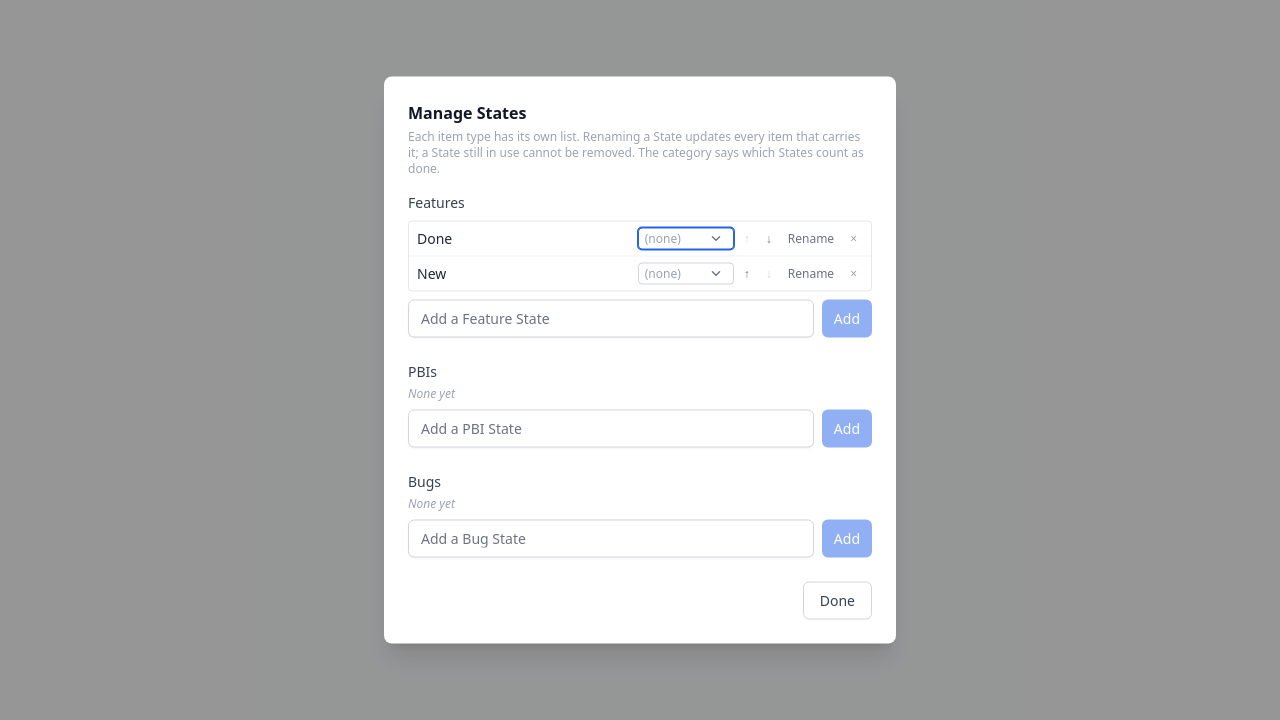
Test: ProjectStatesModal › reports the backend message when a rename collides
Click the button with aria-label "Rename New": [811, 274] box [782,264,840,284]
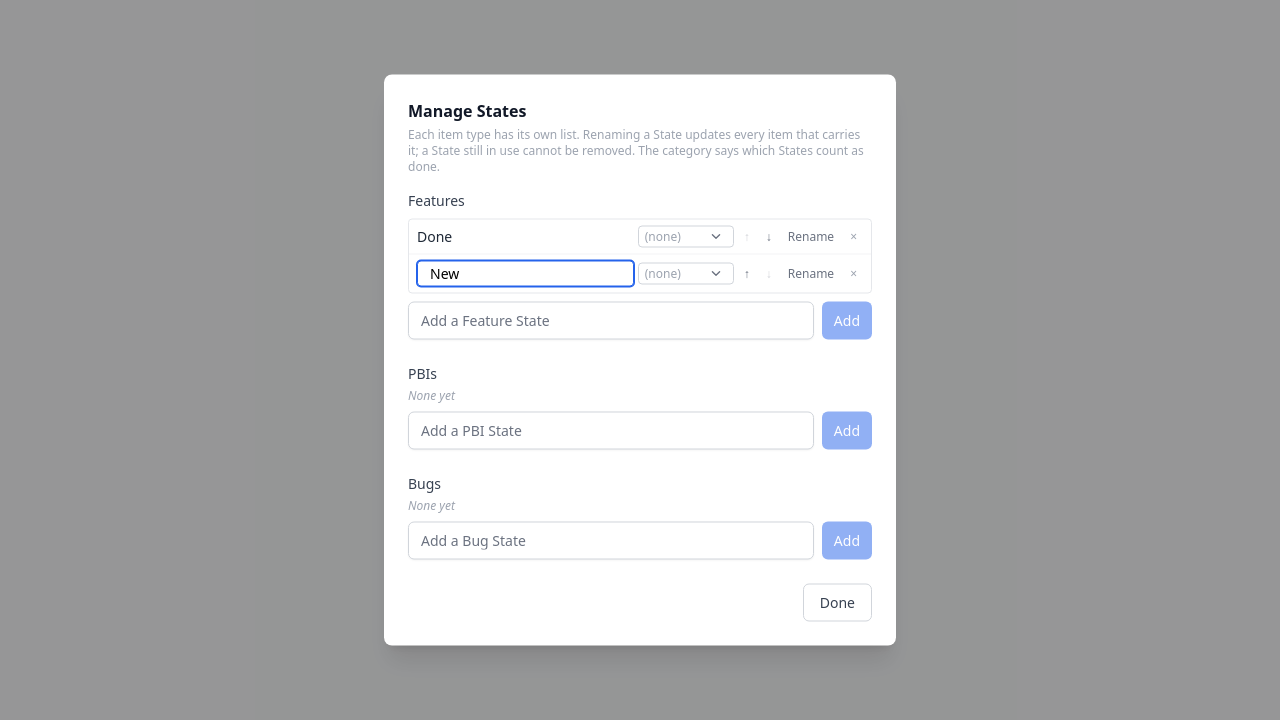
Replace the text in the field named "Rename New" with "Done": [525, 274] box [417,260,634,286]
Then press Enter
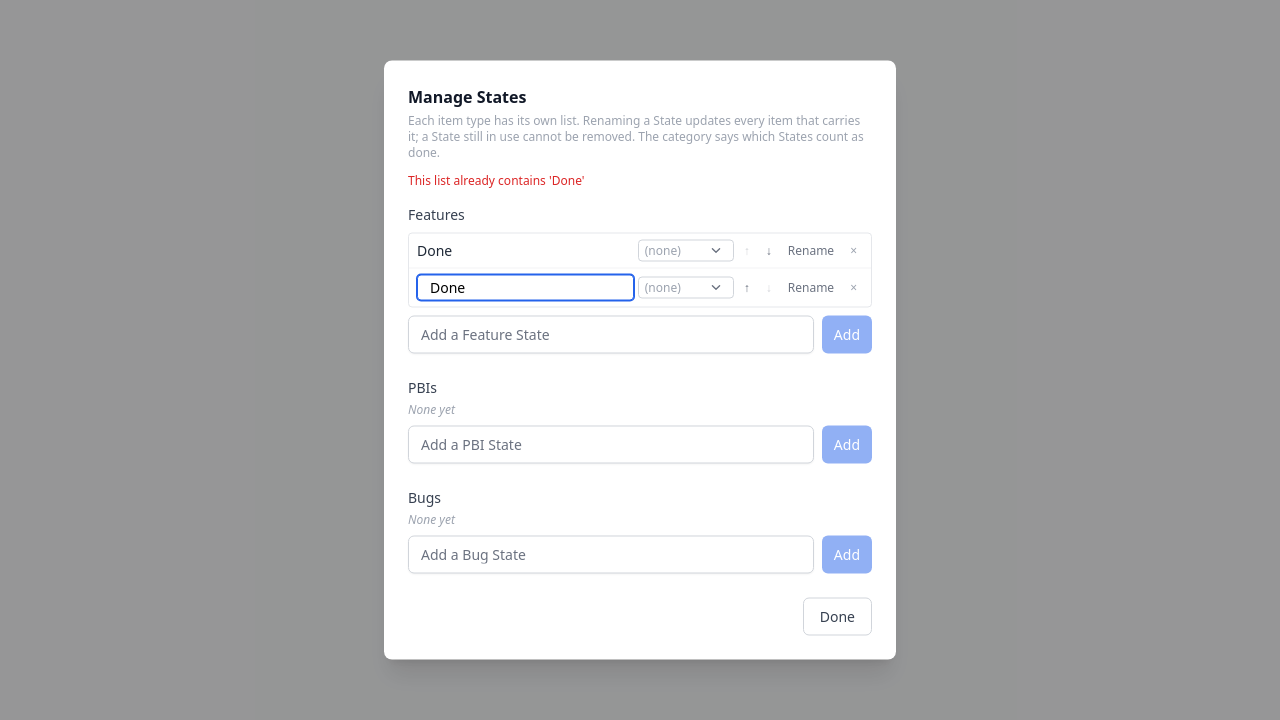
Check: the message reads "This list already contains 'Done'", box [408,172,584,188]
